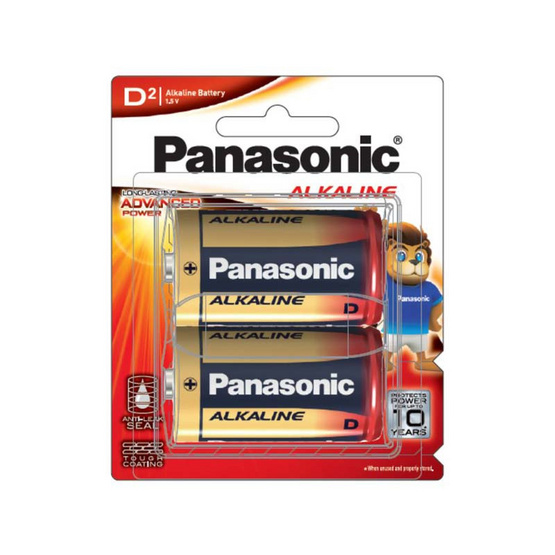Battery: (162, 207, 385, 327), (162, 327, 385, 447)
